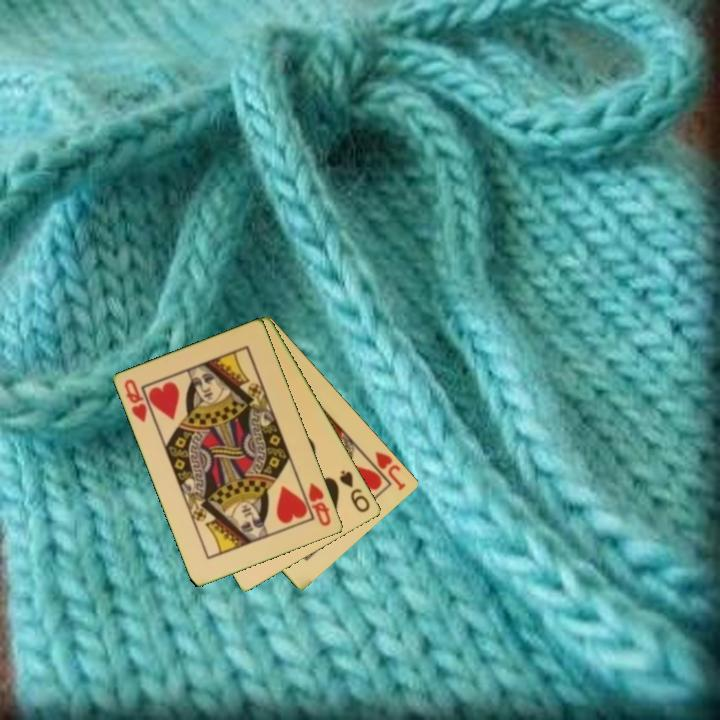9s: (336, 466, 373, 516)
Jh: (362, 448, 409, 494)
Qh: (305, 479, 334, 529), (121, 376, 150, 425)
